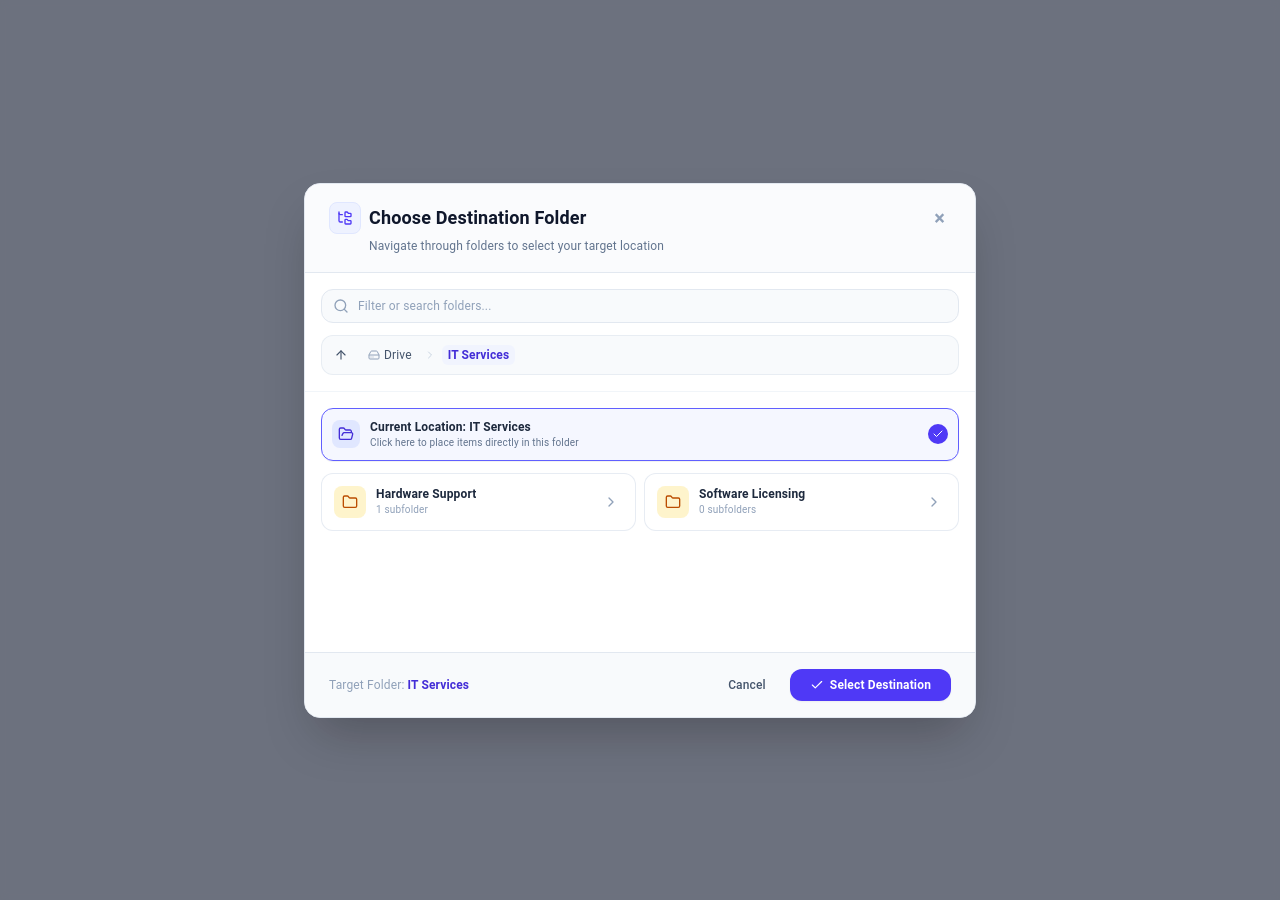
FolderExplorerModal › allows navigating back up using the Up button
Expected: the text "Hardware Support" is shown, [376,486,476,502]
// Click up button
Click the button titled "Up one level".
click(341, 354)  # box [330,344,352,366]
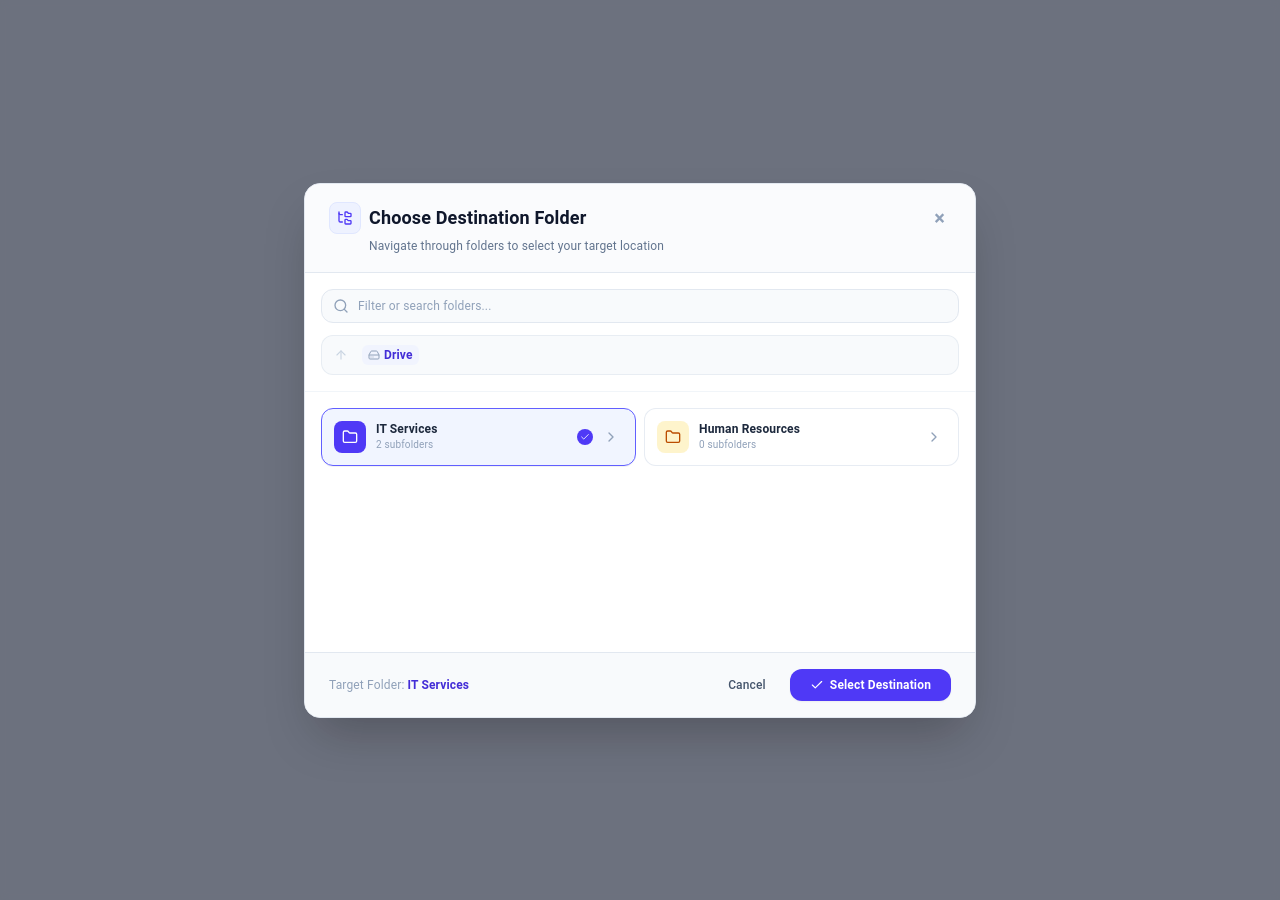
Expected: the text "IT Services" in the row of "Human Resources" is shown, [376,422,438,436]
Expected: the text "Human Resources" is shown, [699,421,800,437]
